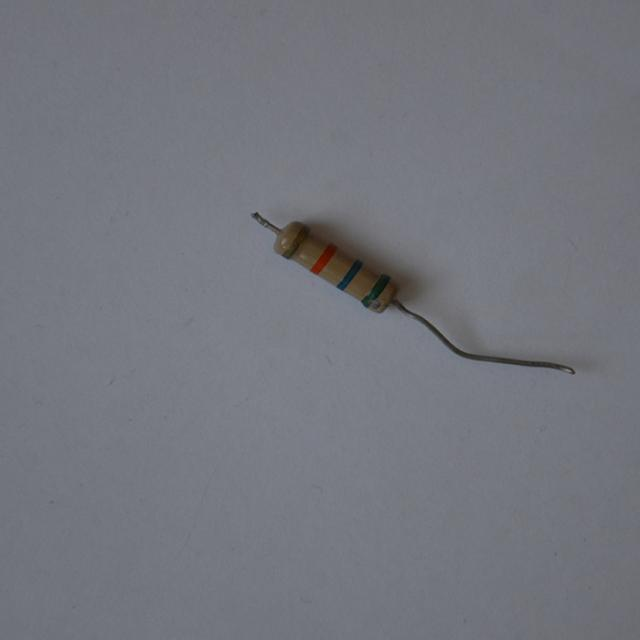blue: (336, 260, 361, 290)
gold: (283, 226, 308, 257)
green: (360, 272, 389, 306)
orange: (312, 244, 336, 273)
resistor: (252, 208, 417, 333)
